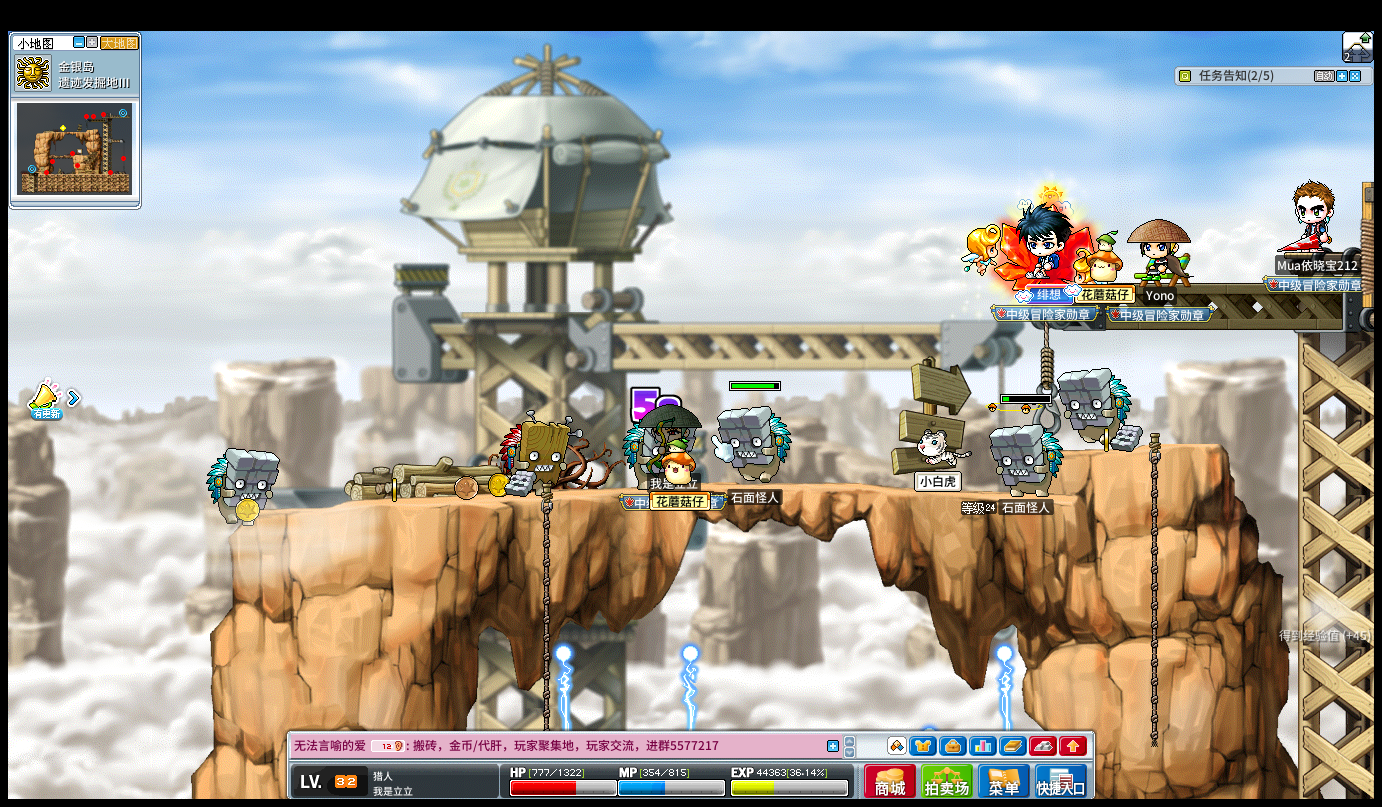floor: (248, 476, 1137, 506), (1056, 439, 1223, 456)
monster: (499, 412, 578, 498), (1061, 366, 1133, 451), (717, 405, 792, 483), (206, 448, 280, 527), (988, 424, 1062, 495)
rope: (1145, 428, 1161, 753), (539, 480, 552, 743), (540, 485, 552, 679)
